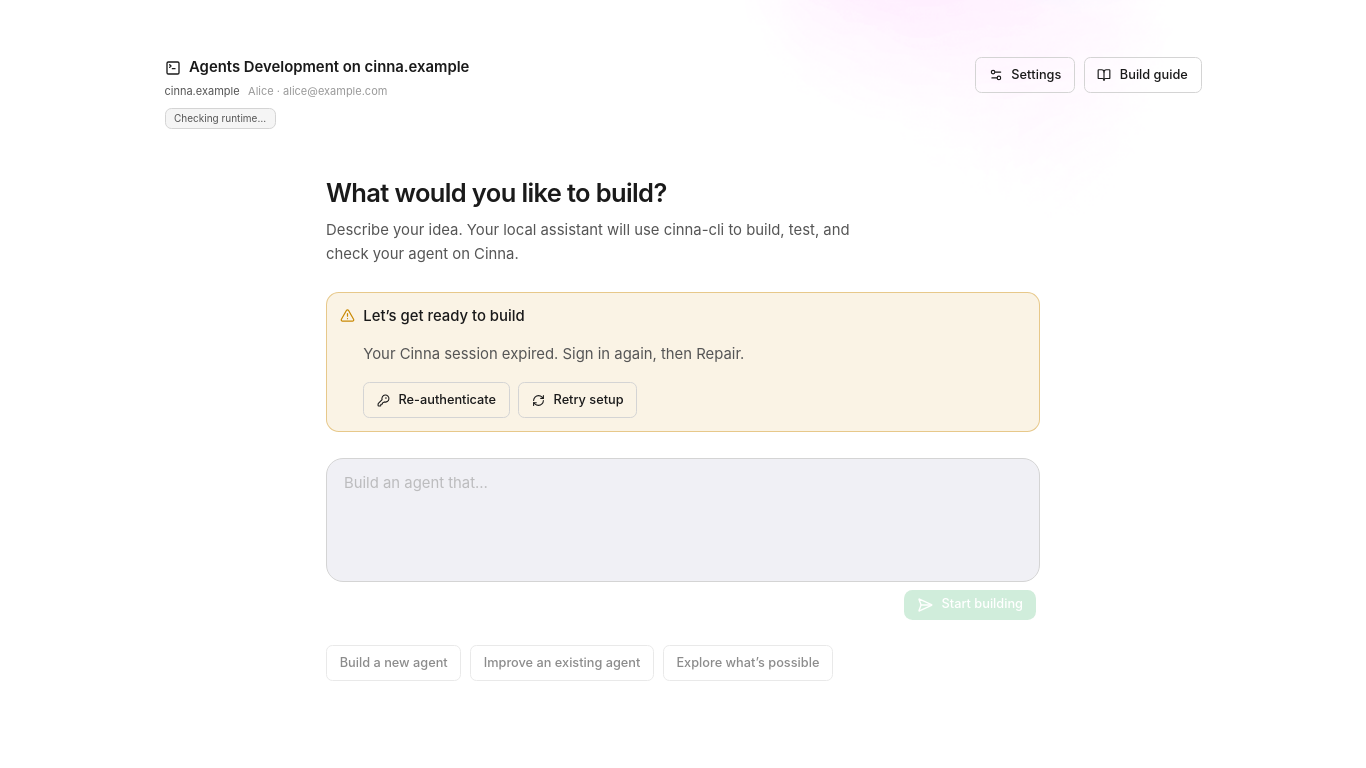
Scenario: an account workspace that needs attention › re-authenticates in place from the page and reports a mismatched sign-in without losing the notice
Click the button "Re-authenticate": (437, 400) [363,382,510,418]
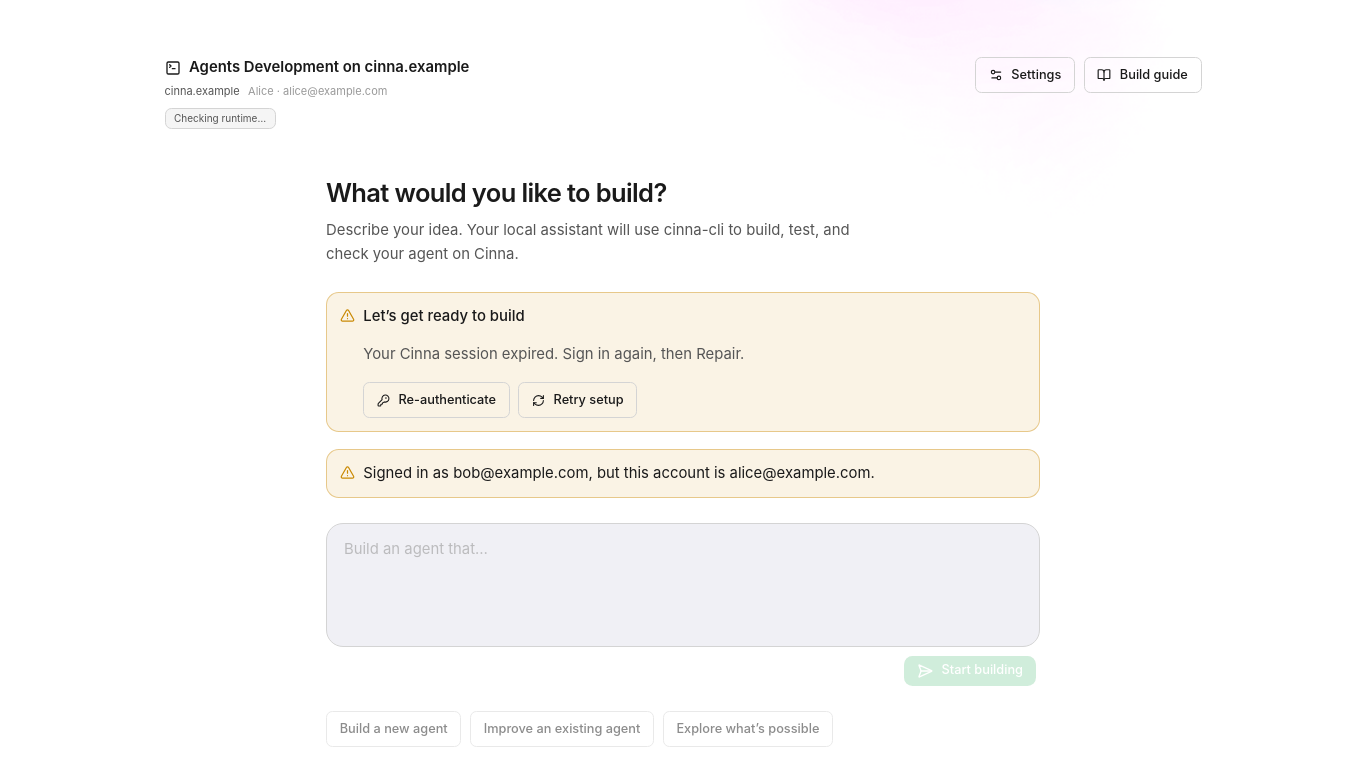
Expected: the text "Your Cinna session expired. Sign in again, then Repair." is shown, [363,345,744,363]
Now the text "Signed in as bob@example.com, but this account is alice@example.com." is shown, box [363,464,875,482]
